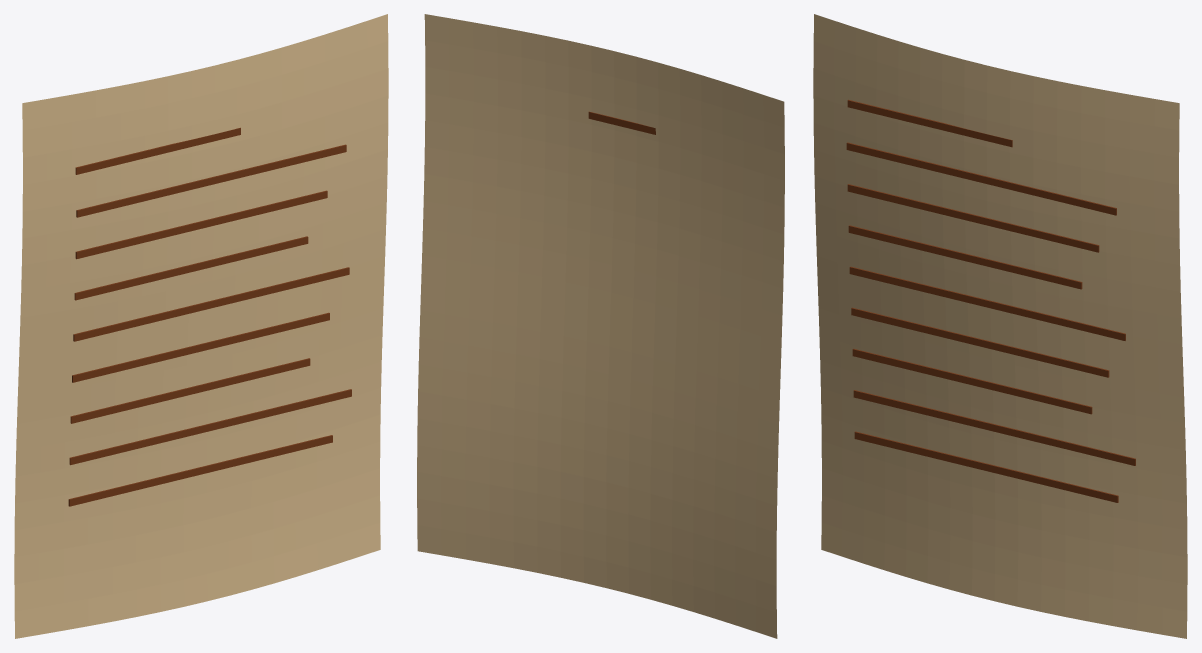
The model's file is paper.glb.
The picture shows the model from 3 angles, left to right: view 1: azimuth 30°, elevation 25°; view 2: azimuth 150°, elevation 25°; view 3: azimuth 330°, elevation 25°; orthographic projection.
Parts seen in each view (by area): view 1: sheet, line7, line4, line1, line8, line5, line2, line6, line3, line0; view 2: sheet, line0; view 3: sheet, line7, line4, line1, line8, line5, line2, line6, line3, line0.
Part boxes in pixels (left/top/right/bottom): sheet: left=14, top=14, right=388, bottom=638; line7: left=69, top=389, right=351, bottom=465; line4: left=73, top=267, right=349, bottom=341; line1: left=76, top=144, right=346, bottom=217; line8: left=68, top=435, right=332, bottom=506; line5: left=72, top=312, right=329, bottom=382; line2: left=75, top=190, right=327, bottom=259; line6: left=70, top=358, right=310, bottom=423; line3: left=74, top=236, right=308, bottom=300; line0: left=75, top=127, right=240, bottom=174; sheet: left=417, top=14, right=784, bottom=638; line0: left=588, top=111, right=655, bottom=134; sheet: left=813, top=14, right=1187, bottom=638; line7: left=853, top=390, right=1135, bottom=465; line4: left=849, top=266, right=1125, bottom=340; line1: left=846, top=142, right=1116, bottom=215; line8: left=854, top=431, right=1118, bottom=502; line5: left=851, top=307, right=1109, bottom=377; line2: left=847, top=184, right=1099, bottom=252; line6: left=852, top=348, right=1092, bottom=414; line3: left=848, top=225, right=1082, bottom=289; line0: left=847, top=99, right=1012, bottom=147.
Size of the model in its own units: 1 by 1.41 by 0.0897.
